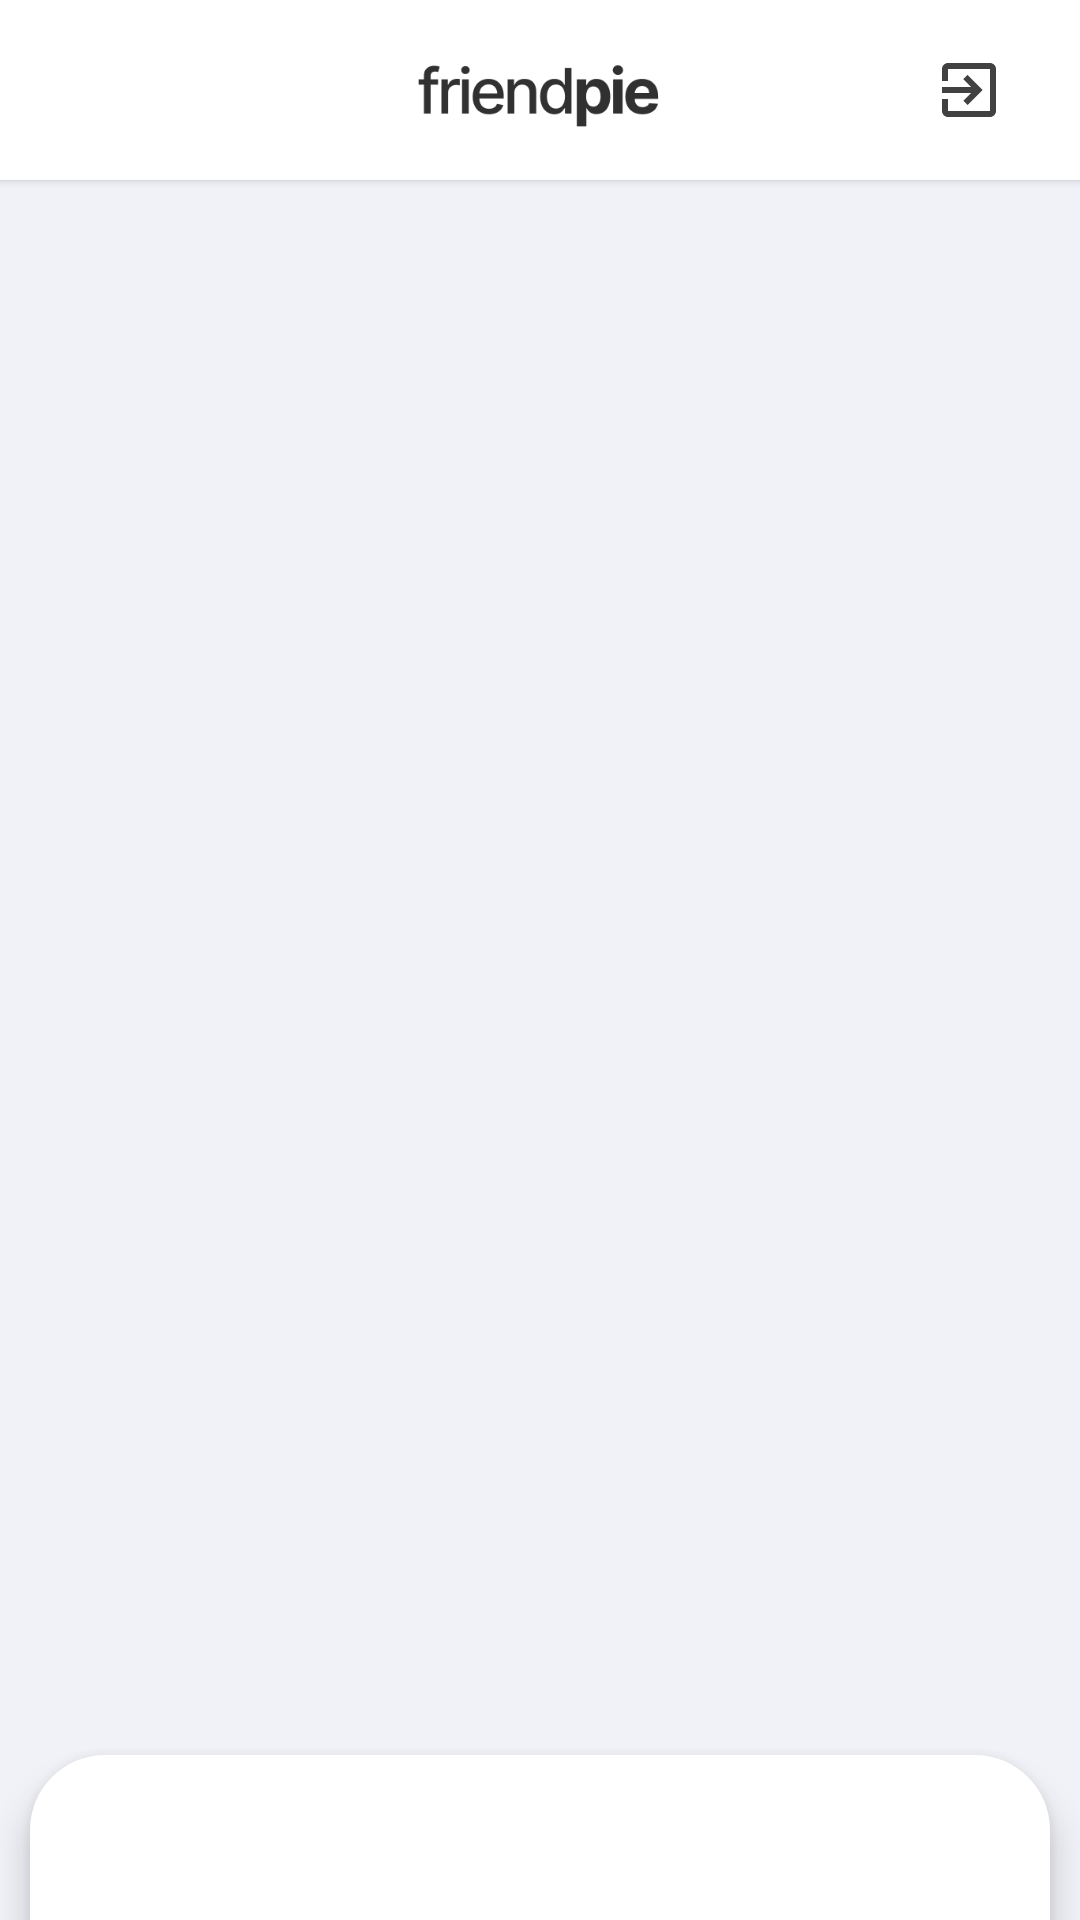

Locate icon controls on the screen. Image size 1080w x 1920h, boxes as (x1, y1, x2, y2).
exit to app: (942, 63, 996, 117)
